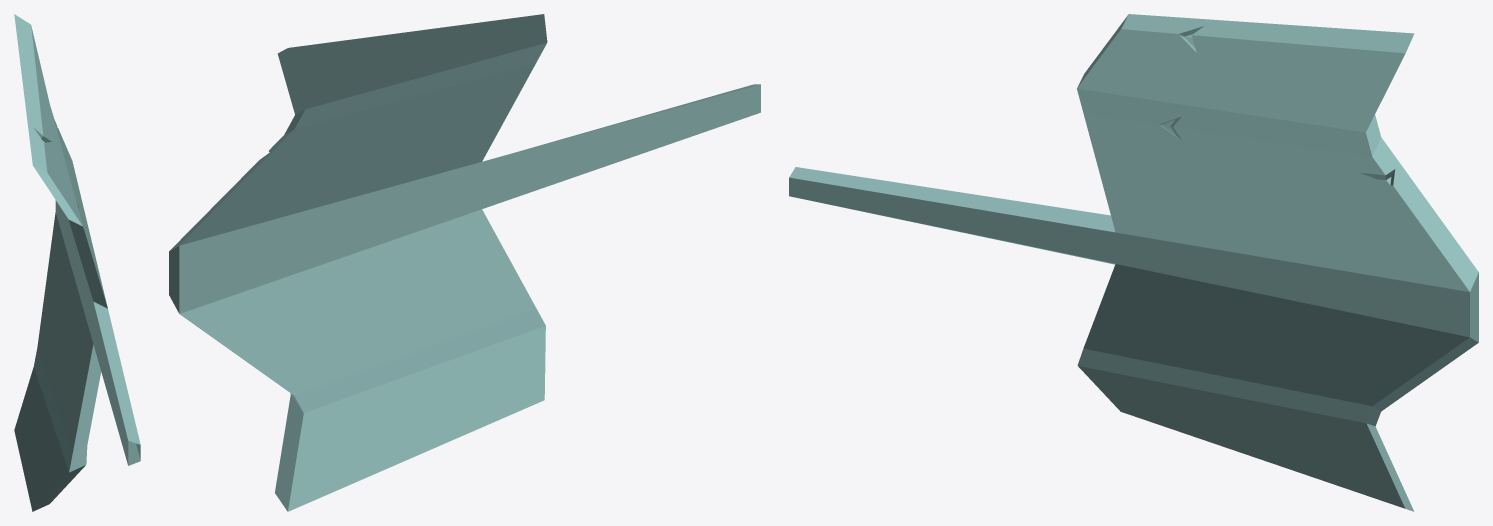
The model's file is Windmill 3.fbx.
3 views of the same model, side by side, from view 1: azimuth 30°, elevation 25°; view 2: azimuth 150°, elevation 25°; view 3: azimuth 270°, elevation 25° (orthographic). The views are drawn at different scales.
Parts seen in each view (by area): view 1: Windmill 3; view 2: Windmill 3; view 3: Windmill 3.
Part boxes in pixels (x1,y1,x2,y2): Windmill 3: [14, 14, 140, 511]; Windmill 3: [169, 14, 760, 511]; Windmill 3: [789, 14, 1478, 511].
Bounding box in the file's own units: 73.2 × 123 × 160.
